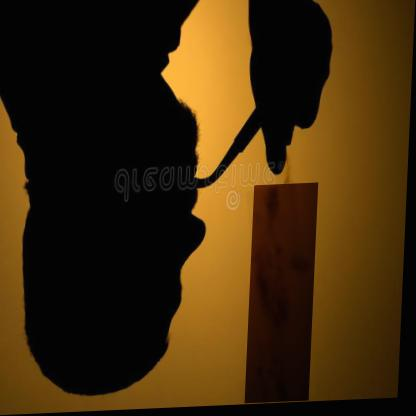smoke: (248, 186, 320, 406)
